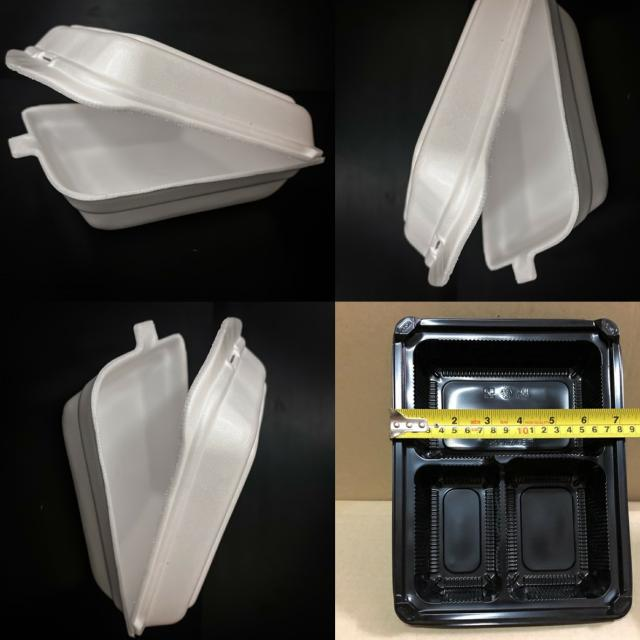plastik: (390, 315, 634, 626), (63, 318, 266, 636), (6, 25, 323, 228), (404, 0, 608, 285)
